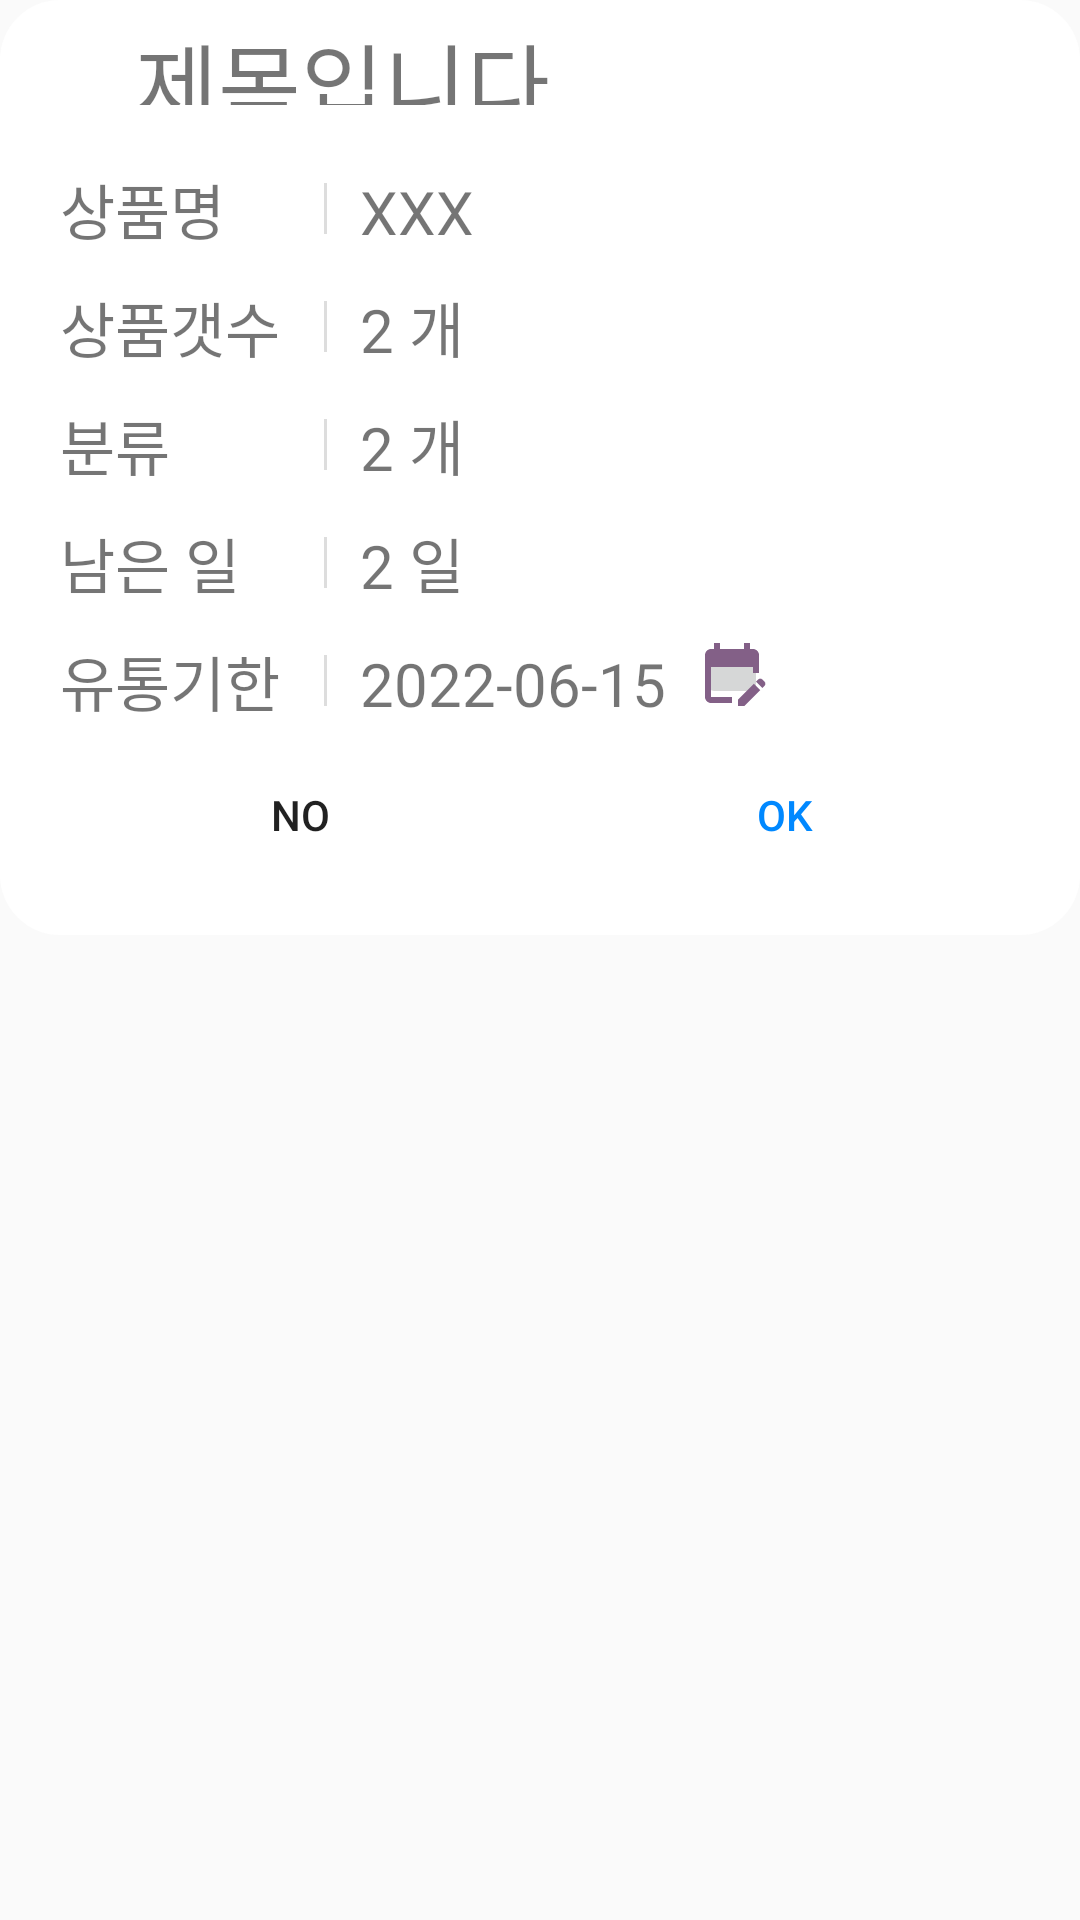

Screen size 1080x1920. Icon name, then its box in pixels as bbox(x1, y1, x2, y2):
edit calendar: bbox(705, 643, 766, 706)
